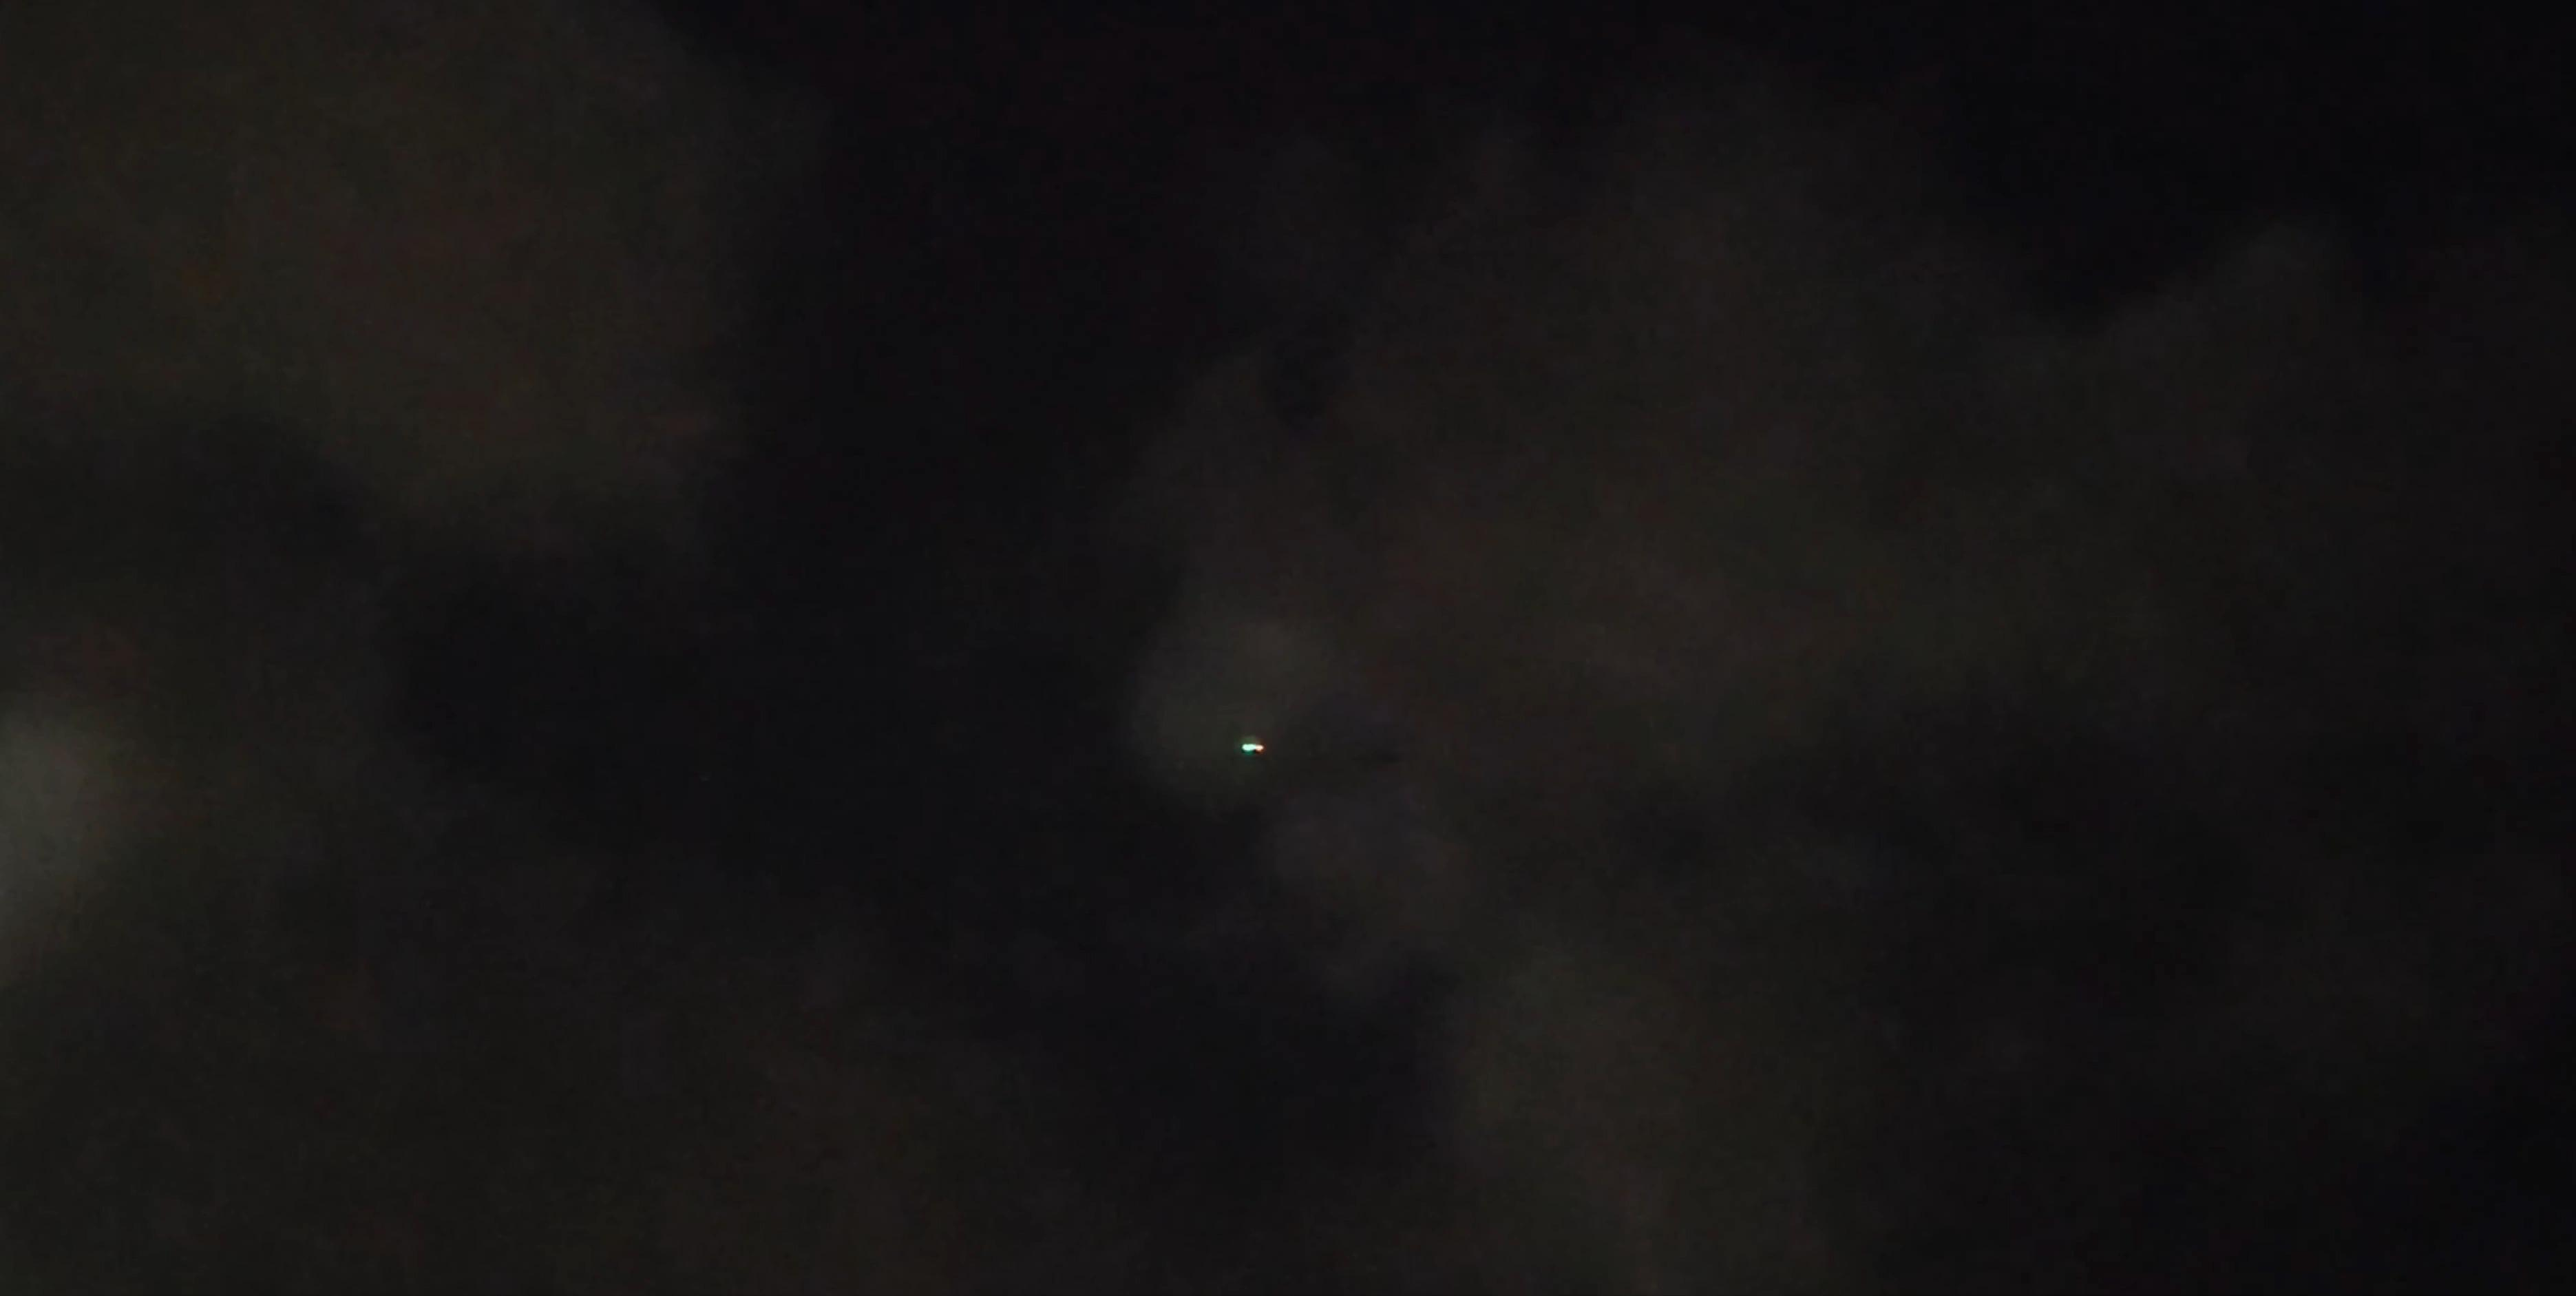Plane: (1243, 731, 1272, 765)
